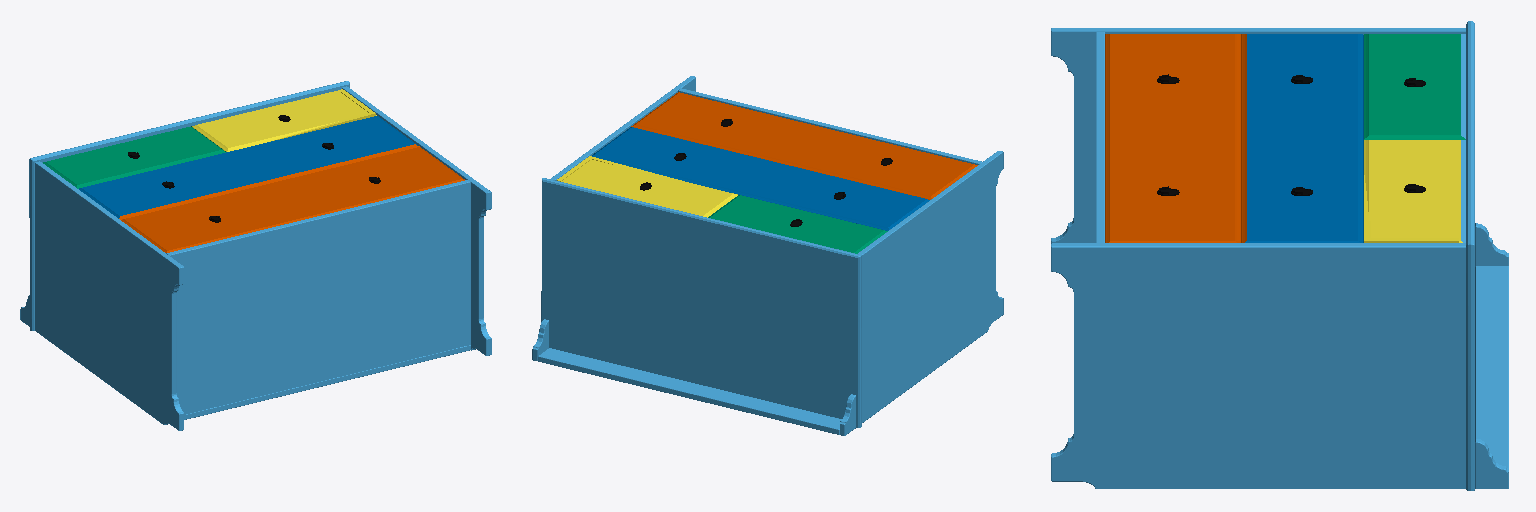
The robot description file, URDF, robot "s__1002":
<robot name="s__1002">


	<link name="0:virtual">
		<visual>
			<origin xyz="0.0 0.0 0.0" rpy="0 0 0"/>
			<geometry>
				<cylinder length="0" radius="0"/>
			</geometry>
		</visual>
	</link>


	<link name="1:static">
		<visual>
			<origin xyz="-0.0 -0.0 -0.0" rpy="0 0 0"/>
			<geometry>
				<mesh filename="../raw_data/s__1002/part_meshes/1.dae" />
			</geometry>
		</visual>
	</link>


	<link name="2:drawer 1">
		<visual>
			<origin xyz="0.22404842084506527 -0.6517989933490753 -0.0030025020241737366" rpy="0 0 0"/>
			<geometry>
				<mesh filename="../raw_data/s__1002/part_meshes/2.dae" />
			</geometry>
		</visual>
	</link>


	<link name="3:drawer 2">
		<visual>
			<origin xyz="-0.2289761924127881 -0.6519995033740997 -0.009659622906194931" rpy="0 0 0"/>
			<geometry>
				<mesh filename="../raw_data/s__1002/part_meshes/3.dae" />
			</geometry>
		</visual>
	</link>


	<link name="4:drawer 3">
		<visual>
			<origin xyz="-0.0 -0.45045149326324463 -0.0030025020241737366" rpy="0 0 0"/>
			<geometry>
				<mesh filename="../raw_data/s__1002/part_meshes/4.dae" />
			</geometry>
		</visual>
	</link>


	<link name="5:drawer 4">
		<visual>
			<origin xyz="-0.0 -0.2232007458806038 -0.0030025020241737366" rpy="0 0 0"/>
			<geometry>
				<mesh filename="../raw_data/s__1002/part_meshes/5.dae" />
			</geometry>
		</visual>
	</link>


	<joint name="0:virtual::1:static" type="fixed">
		<parent link="0:virtual"/>
		<child link="1:static"/>
		<origin xyz="0.0 0.0 0.0" rpy="0 0 0"/>
	</joint>


	<joint name="0:virtual::2:drawer 1_translation" type="prismatic">
		<parent link="0:virtual"/>
		<child link="2:drawer 1"/>
		<origin xyz="-0.22404842084506527 0.6517989933490753 0.0030025020241737366" rpy="0 0 0"/>
		<limit lower="-0.0003550020456314" upper="0.357644997954369" effort="10" velocity="3"/>
		<axis xyz="0.0 0.0 1.0"/>
	</joint>


	<joint name="0:virtual::3:drawer 2_translation" type="prismatic">
		<parent link="0:virtual"/>
		<child link="3:drawer 2"/>
		<origin xyz="0.2289761924127881 0.6519995033740997 0.009659622906194931" rpy="0 0 0"/>
		<limit lower="-0.24012603238303895" upper="0.24012603238303895" effort="10" velocity="3"/>
		<axis xyz="-0.022816297244594566 0.0 0.9997396744053156"/>
	</joint>


	<joint name="0:virtual::4:drawer 3_translation" type="prismatic">
		<parent link="0:virtual"/>
		<child link="4:drawer 3"/>
		<origin xyz="0.0 0.45045149326324463 0.0030025020241737366" rpy="0 0 0"/>
		<limit lower="-0.0003550020456314" upper="0.405644997954369" effort="10" velocity="3"/>
		<axis xyz="0.0 0.0 1.0"/>
	</joint>


	<joint name="0:virtual::5:drawer 4_translation" type="prismatic">
		<parent link="0:virtual"/>
		<child link="5:drawer 4"/>
		<origin xyz="0.0 0.2232007458806038 0.0030025020241737366" rpy="0 0 0"/>
		<limit lower="-0.0003550020456314" upper="0.405644997954369" effort="10" velocity="3"/>
		<axis xyz="0.0 0.0 1.0"/>
	</joint>


</robot>

--- Render facts (derived) ---
3 views of the same robot in one strip: view 1: azimuth 30°, elevation 25°; view 2: azimuth 150°, elevation 25°; view 3: azimuth 270°, elevation 25° (orthographic).
Model s__1002 with 6 links and 5 joints (4 prismatic, 1 fixed), rooted at 0:virtual, posed every joint at zero.
Links seen in each view (by area): view 1: 1:static, 5:drawer 4, 4:drawer 3, 3:drawer 2, 2:drawer 1; view 2: 1:static, 5:drawer 4, 4:drawer 3, 3:drawer 2, 2:drawer 1; view 3: 1:static, 5:drawer 4, 4:drawer 3, 2:drawer 1, 3:drawer 2.
Boxes of the visible links, x1,y1,x2,y2 form: 1:static: (20,81,491,430); 5:drawer 4: (119,144,464,252); 4:drawer 3: (79,116,417,218); 3:drawer 2: (192,89,376,151); 2:drawer 1: (43,126,225,188); 1:static: (532,76,1003,435); 5:drawer 4: (631,92,977,199); 4:drawer 3: (592,127,929,230); 3:drawer 2: (557,156,737,217); 2:drawer 1: (708,195,887,253); 1:static: (1051,21,1508,490); 5:drawer 4: (1105,34,1246,242); 4:drawer 3: (1245,34,1363,242); 2:drawer 1: (1364,34,1465,139); 3:drawer 2: (1364,140,1462,242).
Bounding box of the posed robot: 0.95 × 0.82 × 0.49 m (x, y, z).
Meshes: 5 distinct files referenced, 5 mesh visuals loaded (5 Collada DAE).
